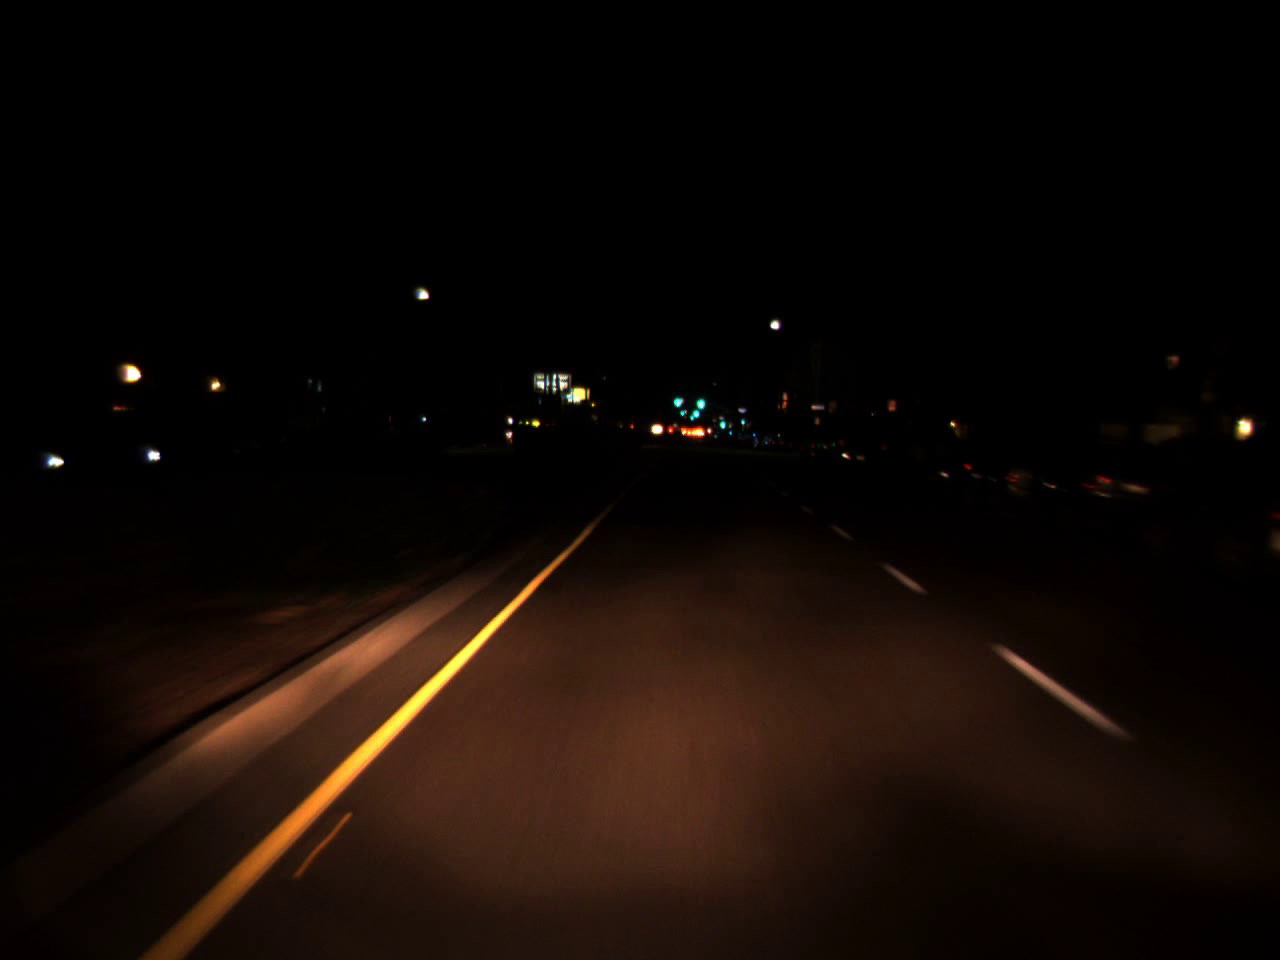go: (695, 388, 705, 412), (671, 388, 681, 409), (691, 402, 700, 419), (717, 415, 726, 430), (679, 404, 686, 416)
